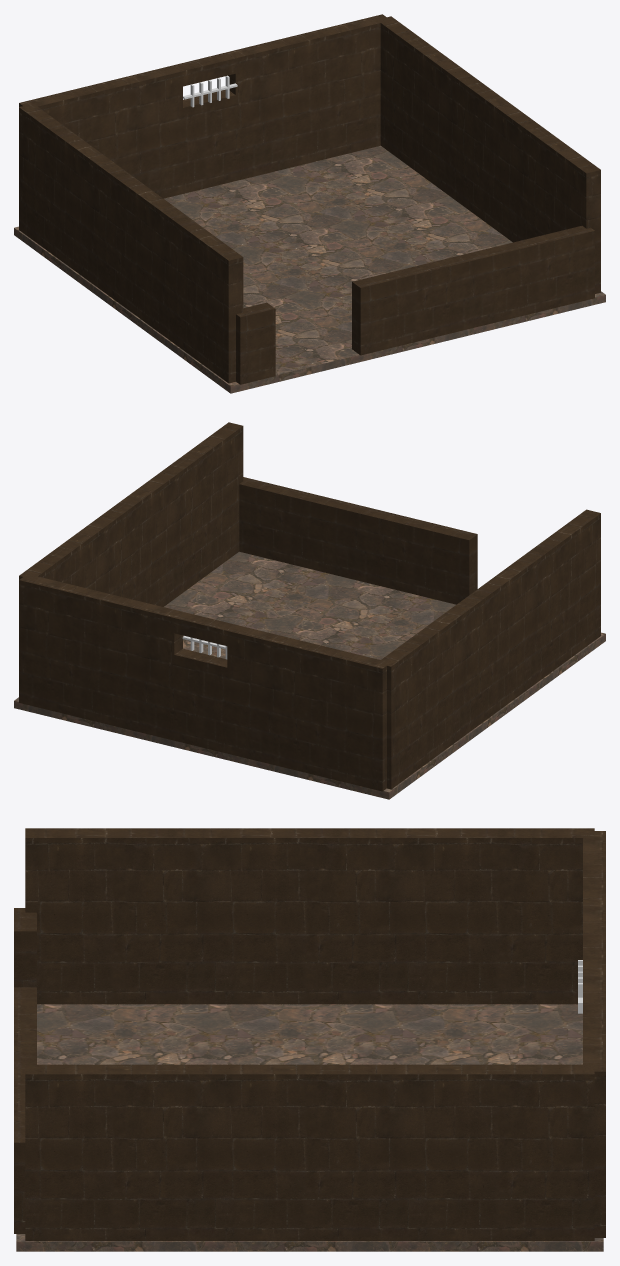
File: cell-rebuilt.glb
The picture shows the model from 3 angles, top to bottom: view 1: azimuth 30°, elevation 25°; view 2: azimuth 150°, elevation 25°; view 3: azimuth 270°, elevation 25°; orthographic projection. The views are drawn at different scales.
Parts seen in each view (by area): view 1: 牢房地面, 牢房侧墙, 牢房侧墙.001, 窗下墙, 入口墙段, 窗上墙, 窗侧墙.001, 入口左墙, 窗侧墙; view 2: 窗下墙, 牢房侧墙, 牢房地面, 牢房侧墙.001, 入口墙段, 窗上墙, 窗侧墙.001, 窗侧墙; view 3: 牢房侧墙.001, 牢房侧墙, 牢房地面, 窗上墙, 入口墙段, 入口左墙, 窗下墙.
Part boxes in pixels (x1,y1,x2,y2): 牢房地面: (14,145,605,393); 牢房侧墙: (19,104,243,383); 牢房侧墙.001: (377,16,600,293); 窗下墙: (76,60,380,198); 入口墙段: (352,225,594,355); 窗上墙: (19,14,387,117); 窗侧墙.001: (228,38,380,94); 入口左墙: (236,302,275,384); 窗侧墙: (53,86,182,134); 窗下墙: (19,617,386,791); 牢房侧墙: (377,509,600,789); 牢房地面: (14,551,605,799); 牢房侧墙.001: (19,422,243,606); 入口墙段: (239,477,477,604); 窗上墙: (19,576,390,683); 窗侧墙.001: (19,595,182,654); 窗侧墙: (227,646,386,705); 牢房侧墙.001: (25,1064,594,1240); 牢房侧墙: (25,828,594,1004); 牢房地面: (16,1004,603,1251); 窗上墙: (583,831,605,1092); 入口墙段: (14,987,36,1233); 入口左墙: (14,908,36,987); 窗下墙: (594,1121,605,1237).
Bounding box in the file's own units: 12.8 × 4.24 × 12.9.
3 materials, 2 textured.
